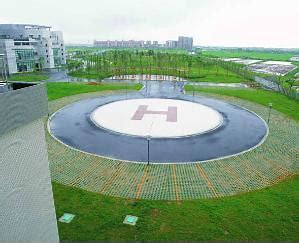H: (131, 105, 177, 123)
